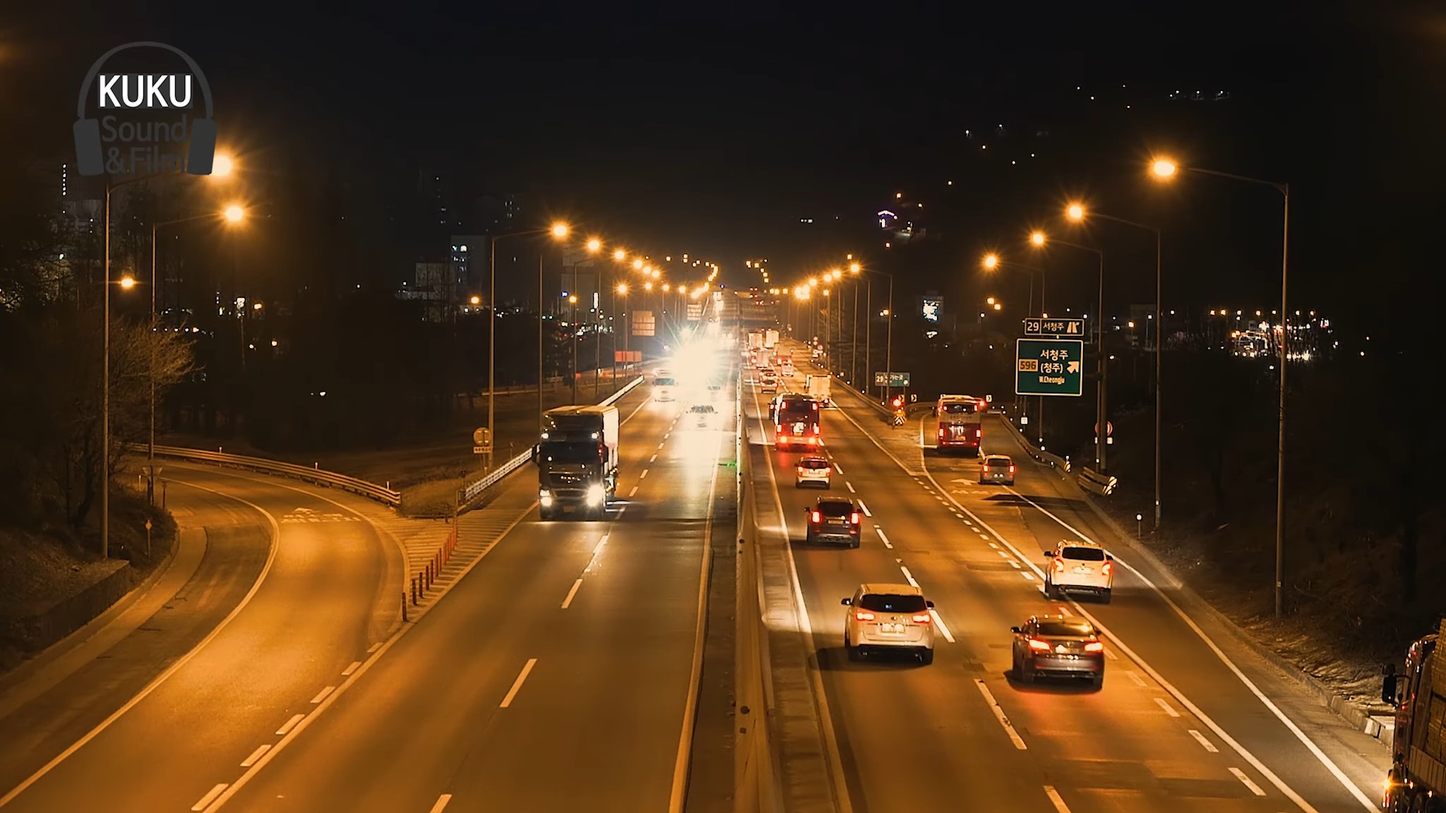car: (1003, 618, 1107, 690), (844, 583, 939, 660), (1044, 538, 1119, 603), (805, 500, 866, 548), (973, 457, 1020, 491), (793, 461, 830, 487)
truck: (533, 403, 622, 519)
